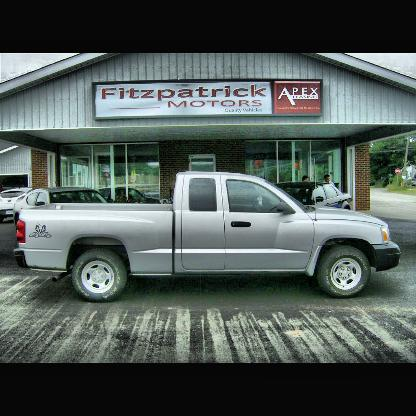Dodge Dakota Club Cab 2007: (11, 170, 405, 300)
